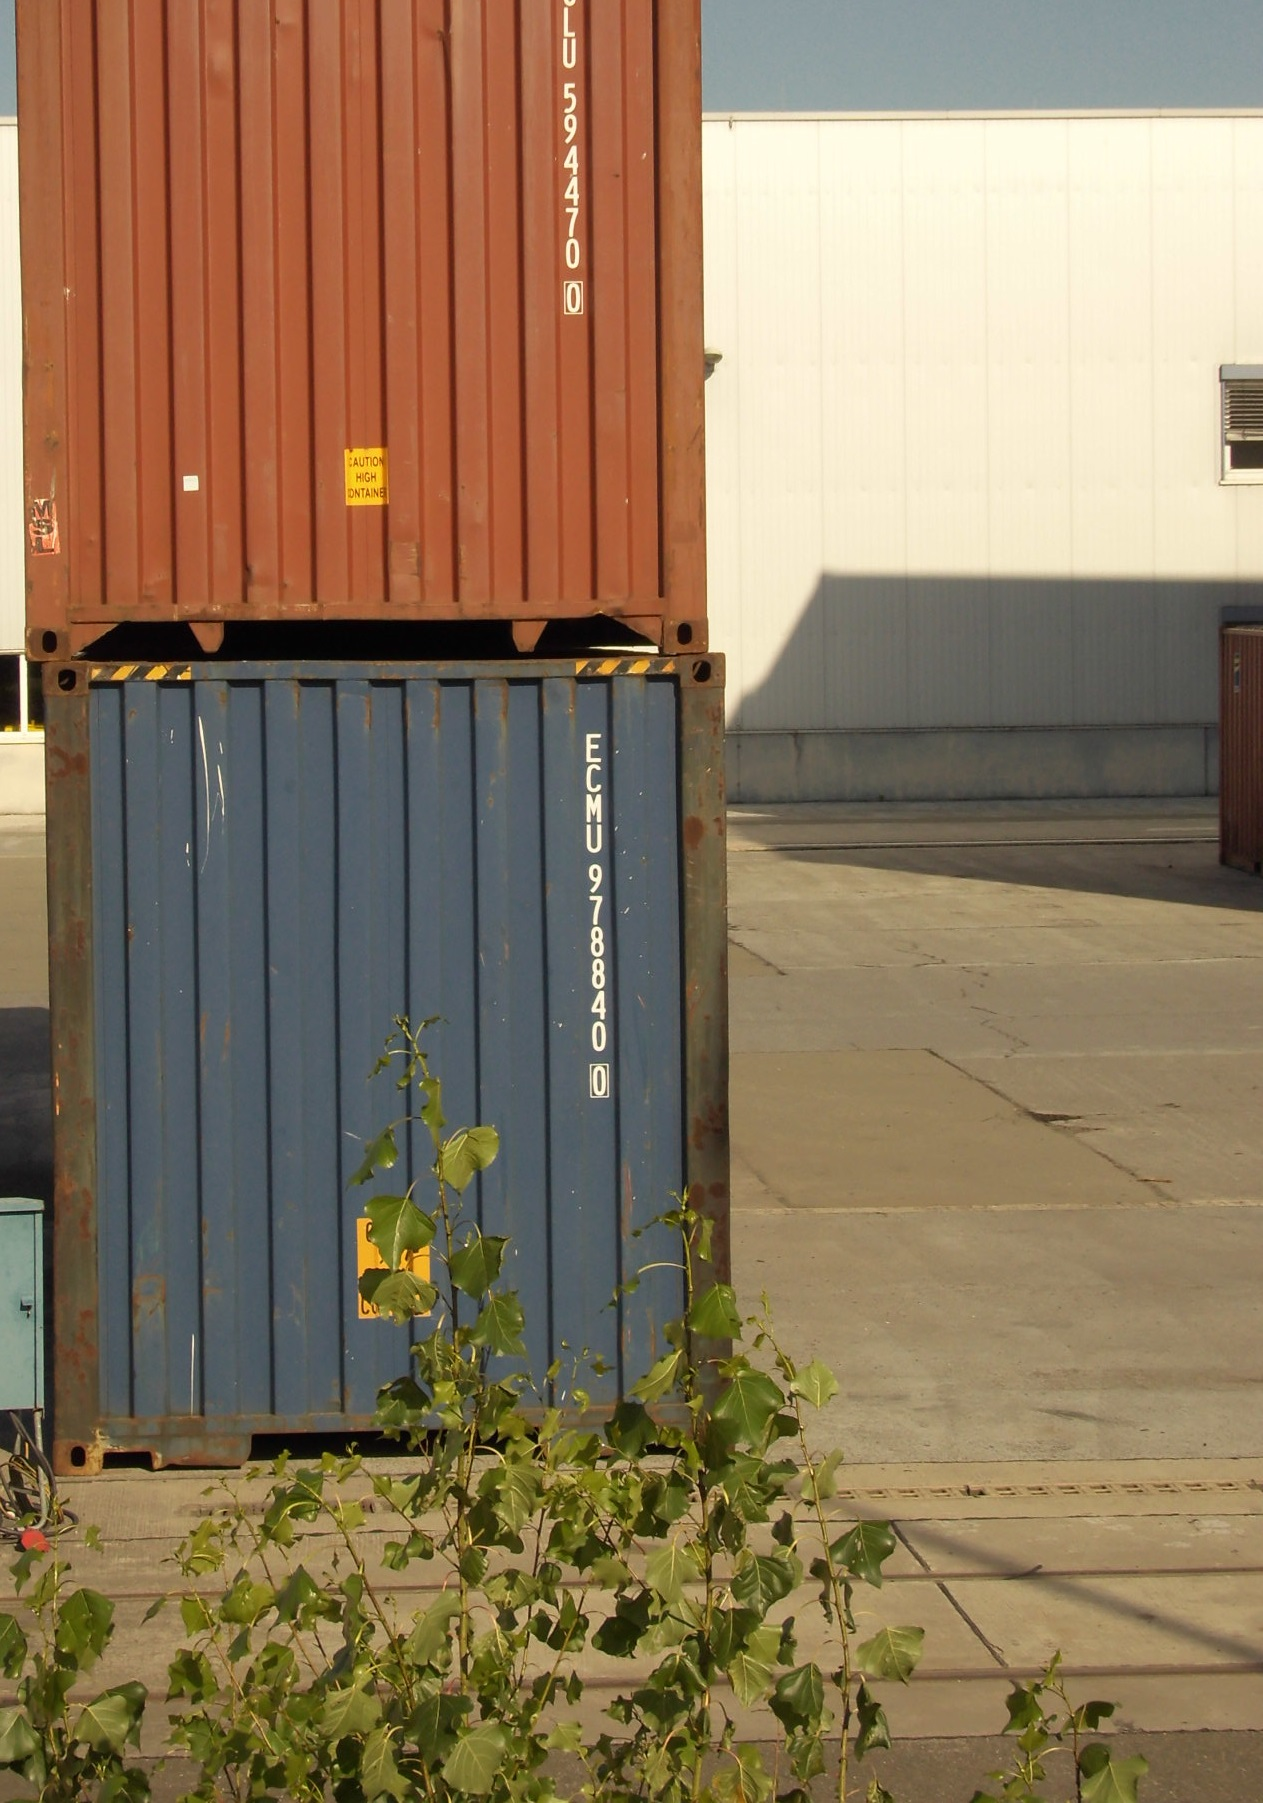container_no_door: (51, 658, 731, 1481), (22, 4, 705, 656)
